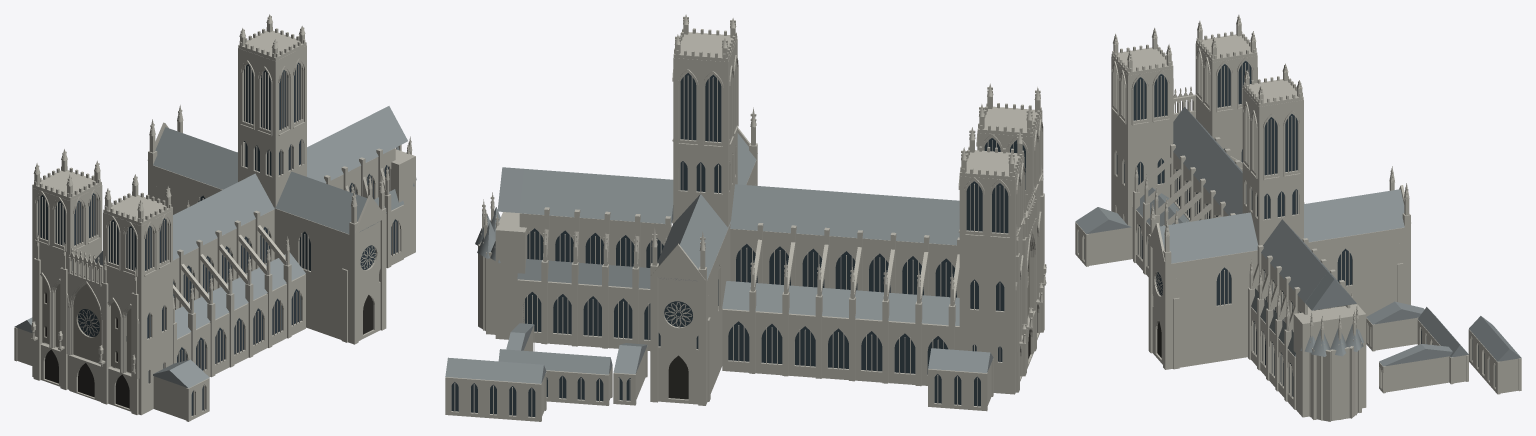
The model's file is washington-national-cathedral-near.glb.
3 renders of one model, left to right at view 1: azimuth 30°, elevation 25°; view 2: azimuth 150°, elevation 25°; view 3: azimuth 270°, elevation 25°, orthographic. The views are drawn at different scales.
Visible parts, largest first — view 1: washington-national-cathedral-0-stone, washington-national-cathedral-0-roof, washington-national-cathedral-0-glass, washington-national-cathedral-0-archshade, washington-national-cathedral-0-recess; view 2: washington-national-cathedral-0-stone, washington-national-cathedral-0-roof, washington-national-cathedral-0-glass, washington-national-cathedral-0-recess; view 3: washington-national-cathedral-0-stone, washington-national-cathedral-0-roof, washington-national-cathedral-0-glass.
Boxes of the visible parts, x1,y1,x2,y2 form: washington-national-cathedral-0-stone: [14, 14, 415, 421]; washington-national-cathedral-0-roof: [14, 106, 416, 388]; washington-national-cathedral-0-glass: [38, 62, 397, 415]; washington-national-cathedral-0-archshade: [42, 277, 131, 372]; washington-national-cathedral-0-recess: [45, 292, 373, 408]; washington-national-cathedral-0-stone: [445, 14, 1046, 421]; washington-national-cathedral-0-roof: [445, 133, 1000, 383]; washington-national-cathedral-0-glass: [451, 73, 1025, 416]; washington-national-cathedral-0-recess: [668, 309, 1037, 399]; washington-national-cathedral-0-stone: [1075, 15, 1521, 421]; washington-national-cathedral-0-roof: [1075, 60, 1521, 366]; washington-national-cathedral-0-glass: [1078, 61, 1495, 396].
Bounding box in the file's own units: 150 × 91.74 × 139.
